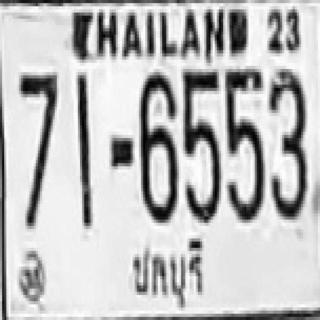N01: (76, 75, 91, 226), (76, 72, 91, 220)
N03: (267, 66, 305, 216)
N05: (223, 66, 263, 220), (181, 67, 219, 221)
N06: (139, 69, 177, 220)
N07: (17, 71, 57, 224), (17, 72, 57, 179)
P13: (122, 235, 206, 310)
